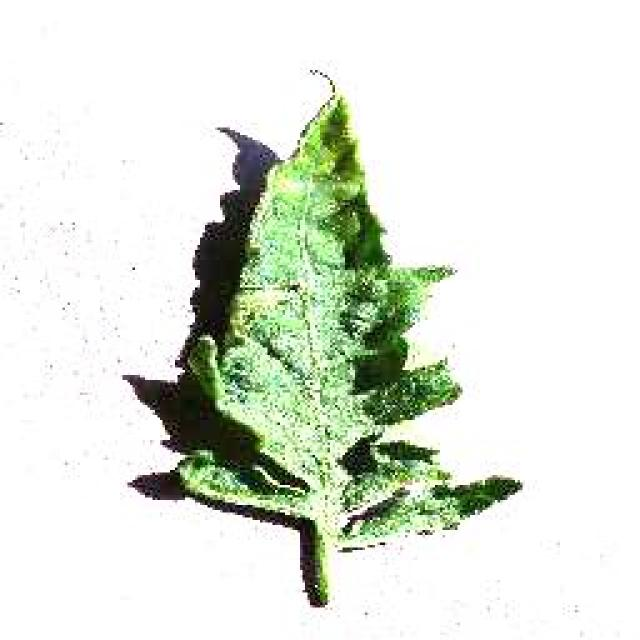Tomato___Tomato_mosaic_virus: (178, 82, 518, 605)
